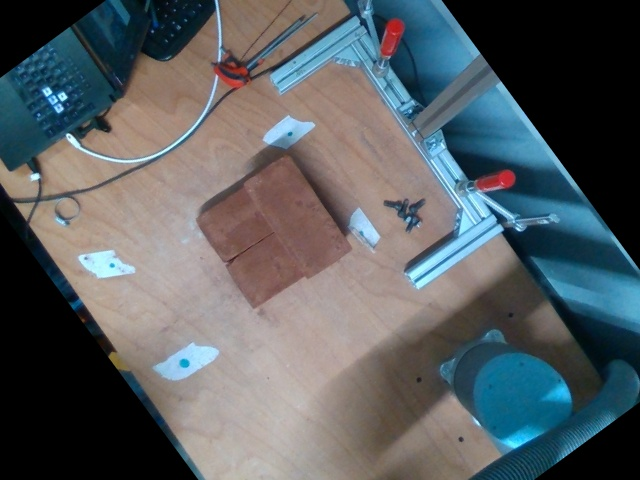brick: (245, 155, 349, 277)
